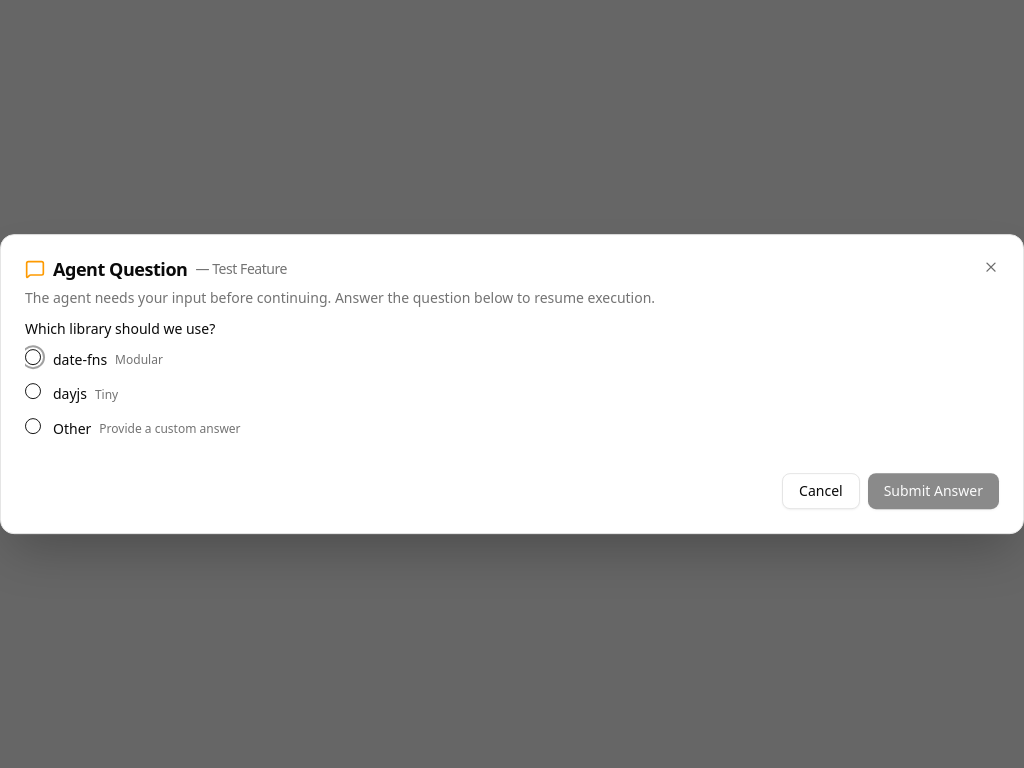
Scenario: QuestionDialog — Submit gating with Other option › enables submit once Other text is entered for single-select
This screenshot has width=1024, height=768.
Step 1. Click the radio button next to "Other" → [33, 426], box [25,418,41,434]
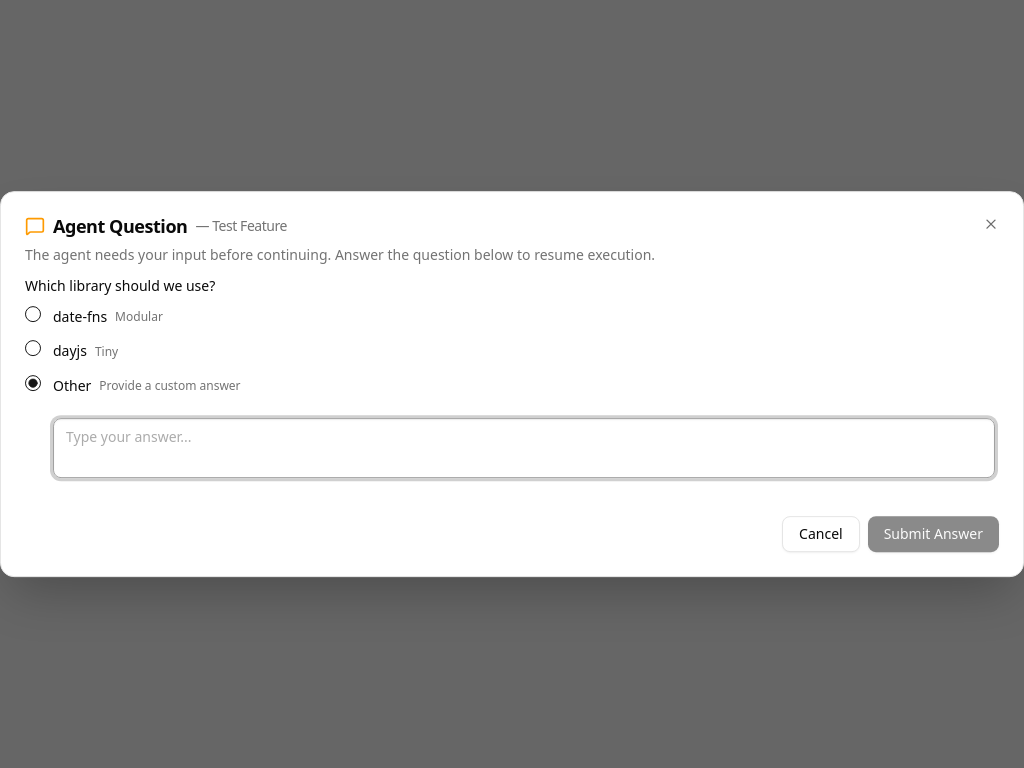
Step 2. Type "luxon" into the text box with placeholder "Type your answer..." → [524, 448], box [53,418,995,478]
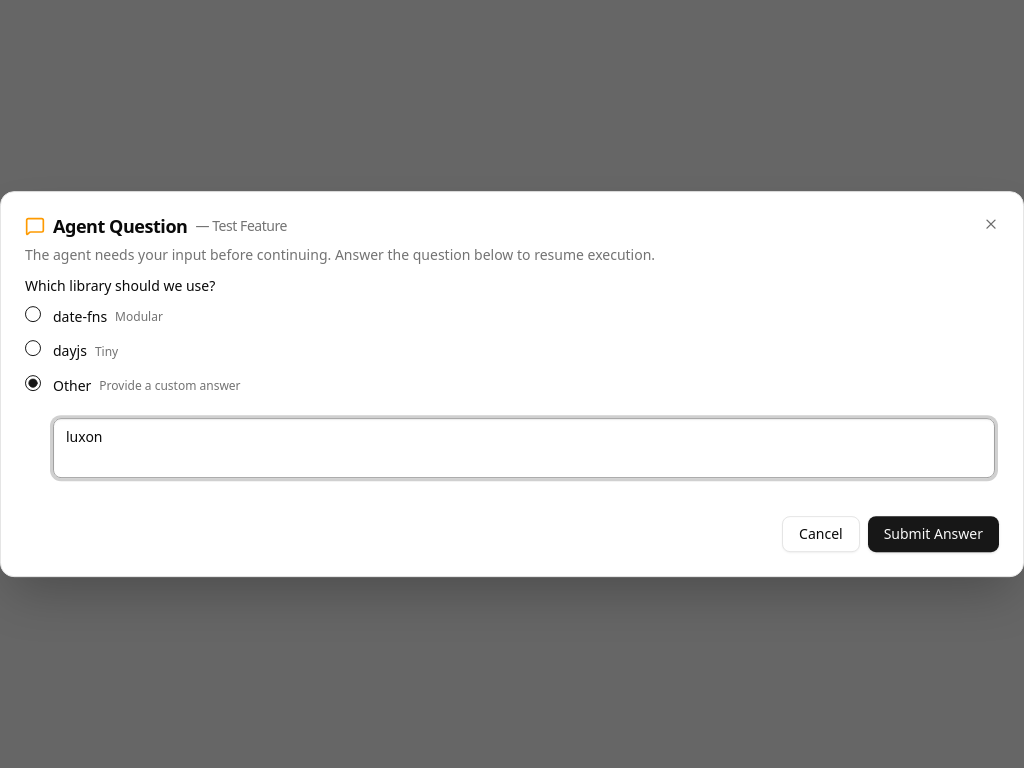
Now the button "Submit Answer" is enabled, box [868,516,999,552]
